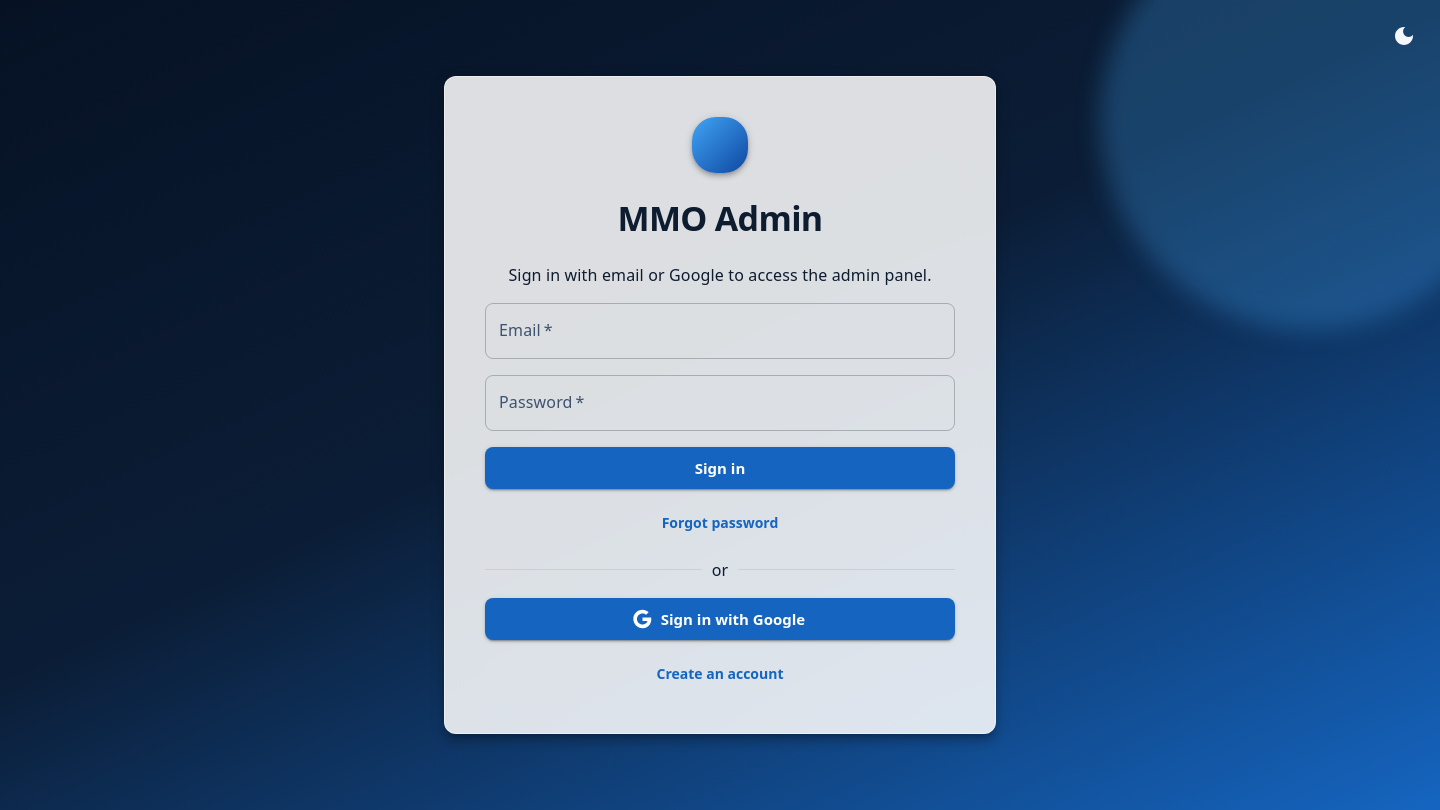
Test: LoginPage › shows a generic error when Google sign in fails
Click the button "Sign in with Google".
click(720, 619)  # box [485,598,955,640]
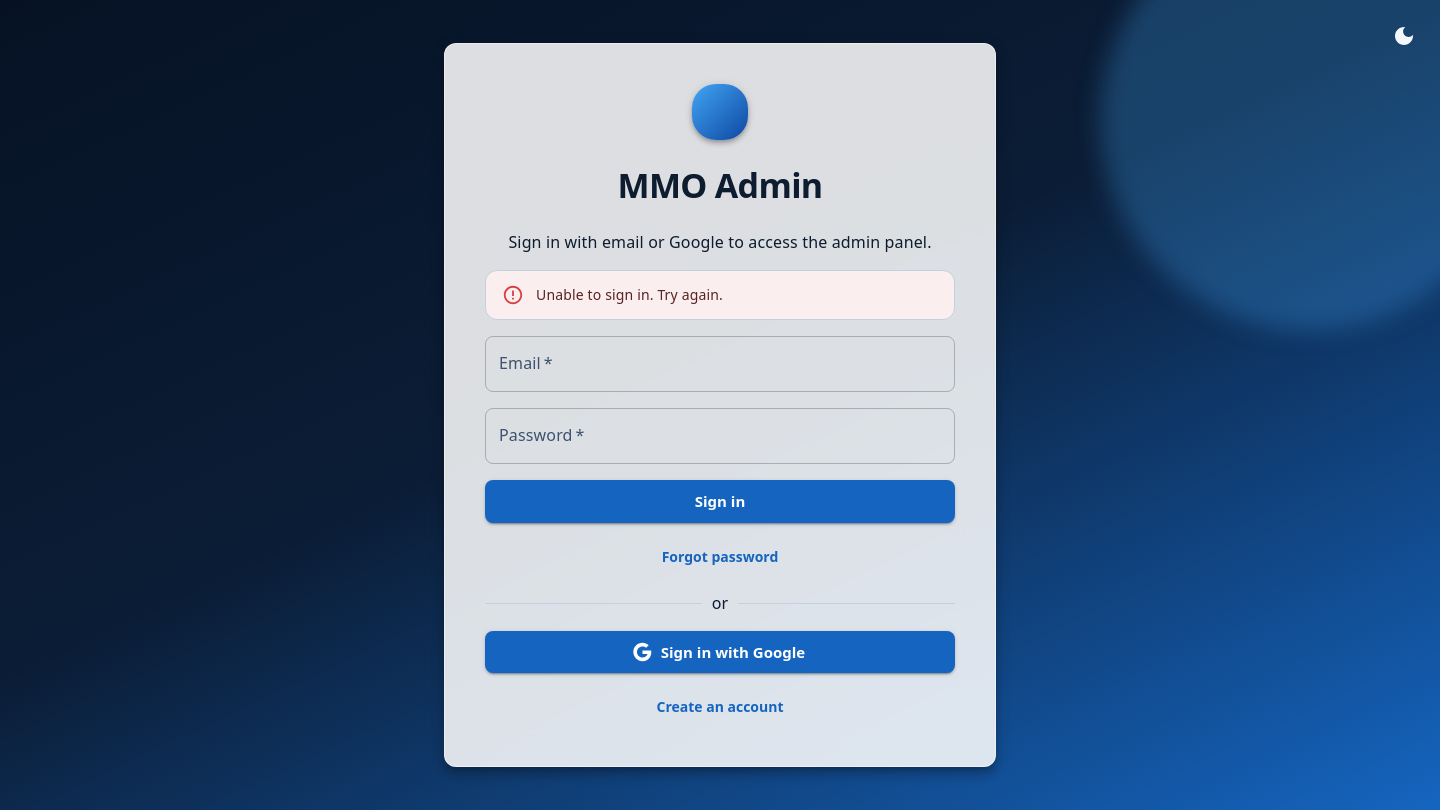
Expected: the message reads "Unable to sign in. Try again.", [536,285,723,304]
